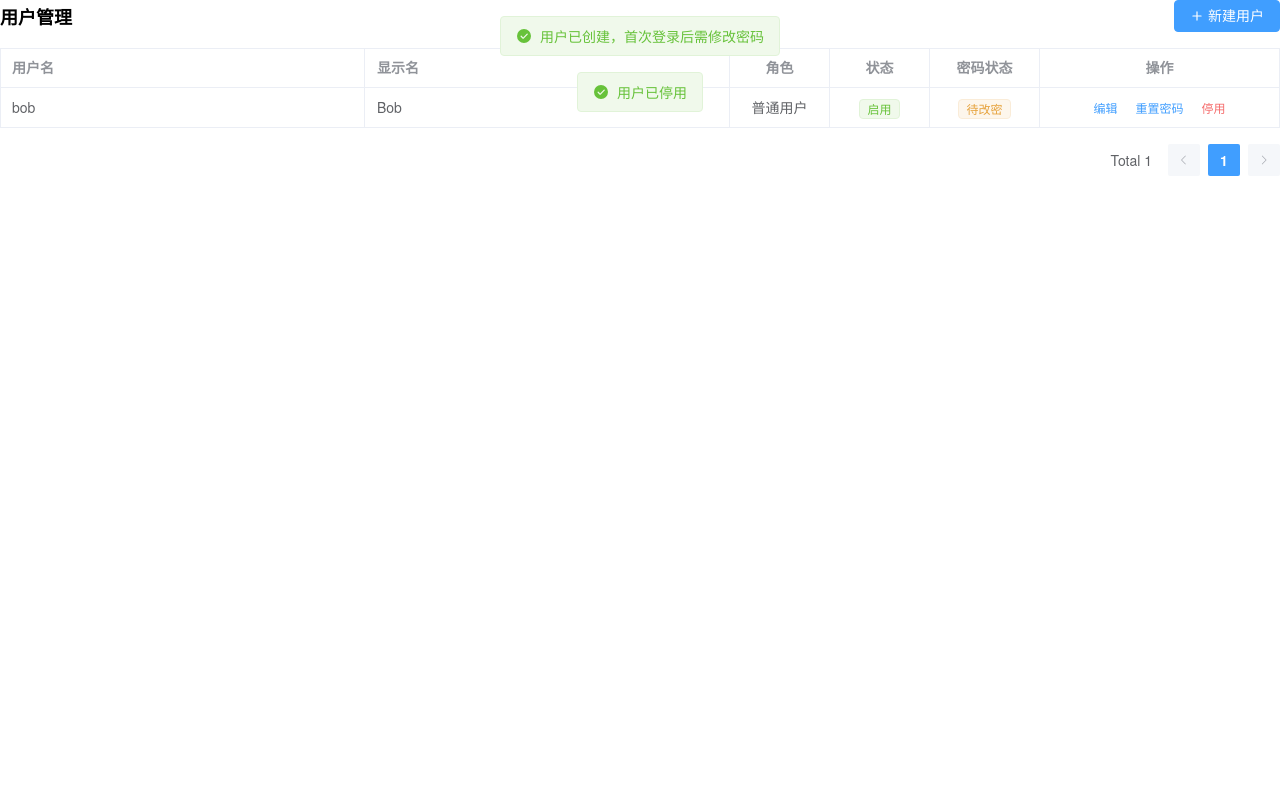
用户管理视图 › 重置密码后展示一次性密码提示
The image size is (1280, 800).
What coordinates should you click on to do the following:
click the button with class "reset-password-button"
I would click on:
 (1160, 110)
Its box is [1132,100,1186,118].
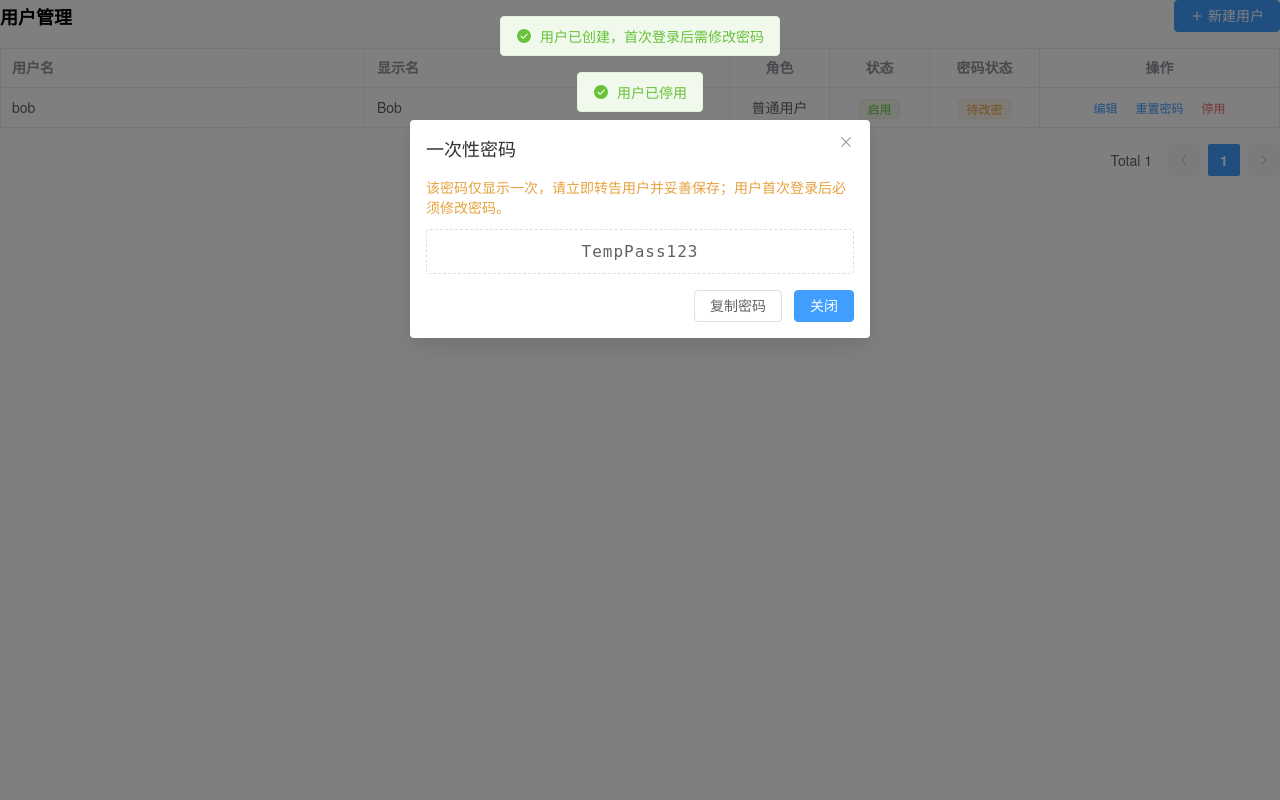
Expected: the element that starts with "一次性密码" shows "TempPass123", [582,242,698,261]
Expected: the element that starts with "一次性密码" shows "仅显示一次", [426,177,846,217]
